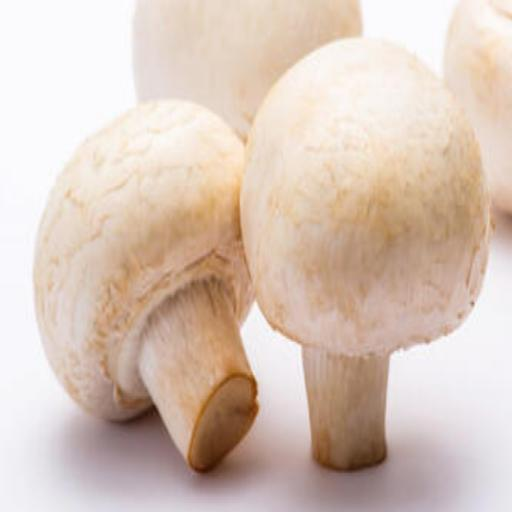Button Mushroom: (243, 33, 495, 472), (27, 91, 280, 480)
